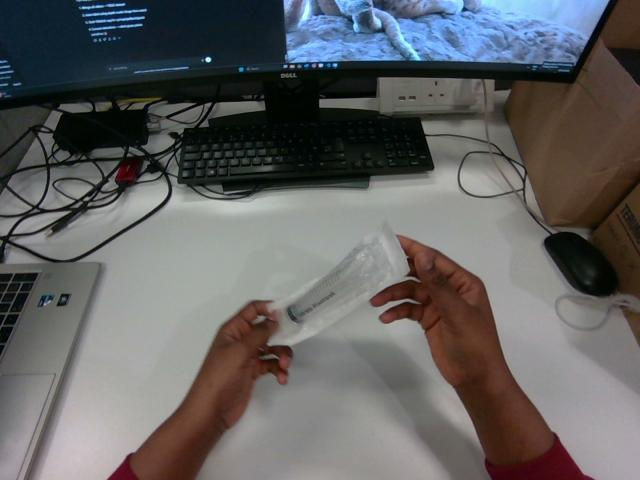syringe: (269, 222, 408, 344)
